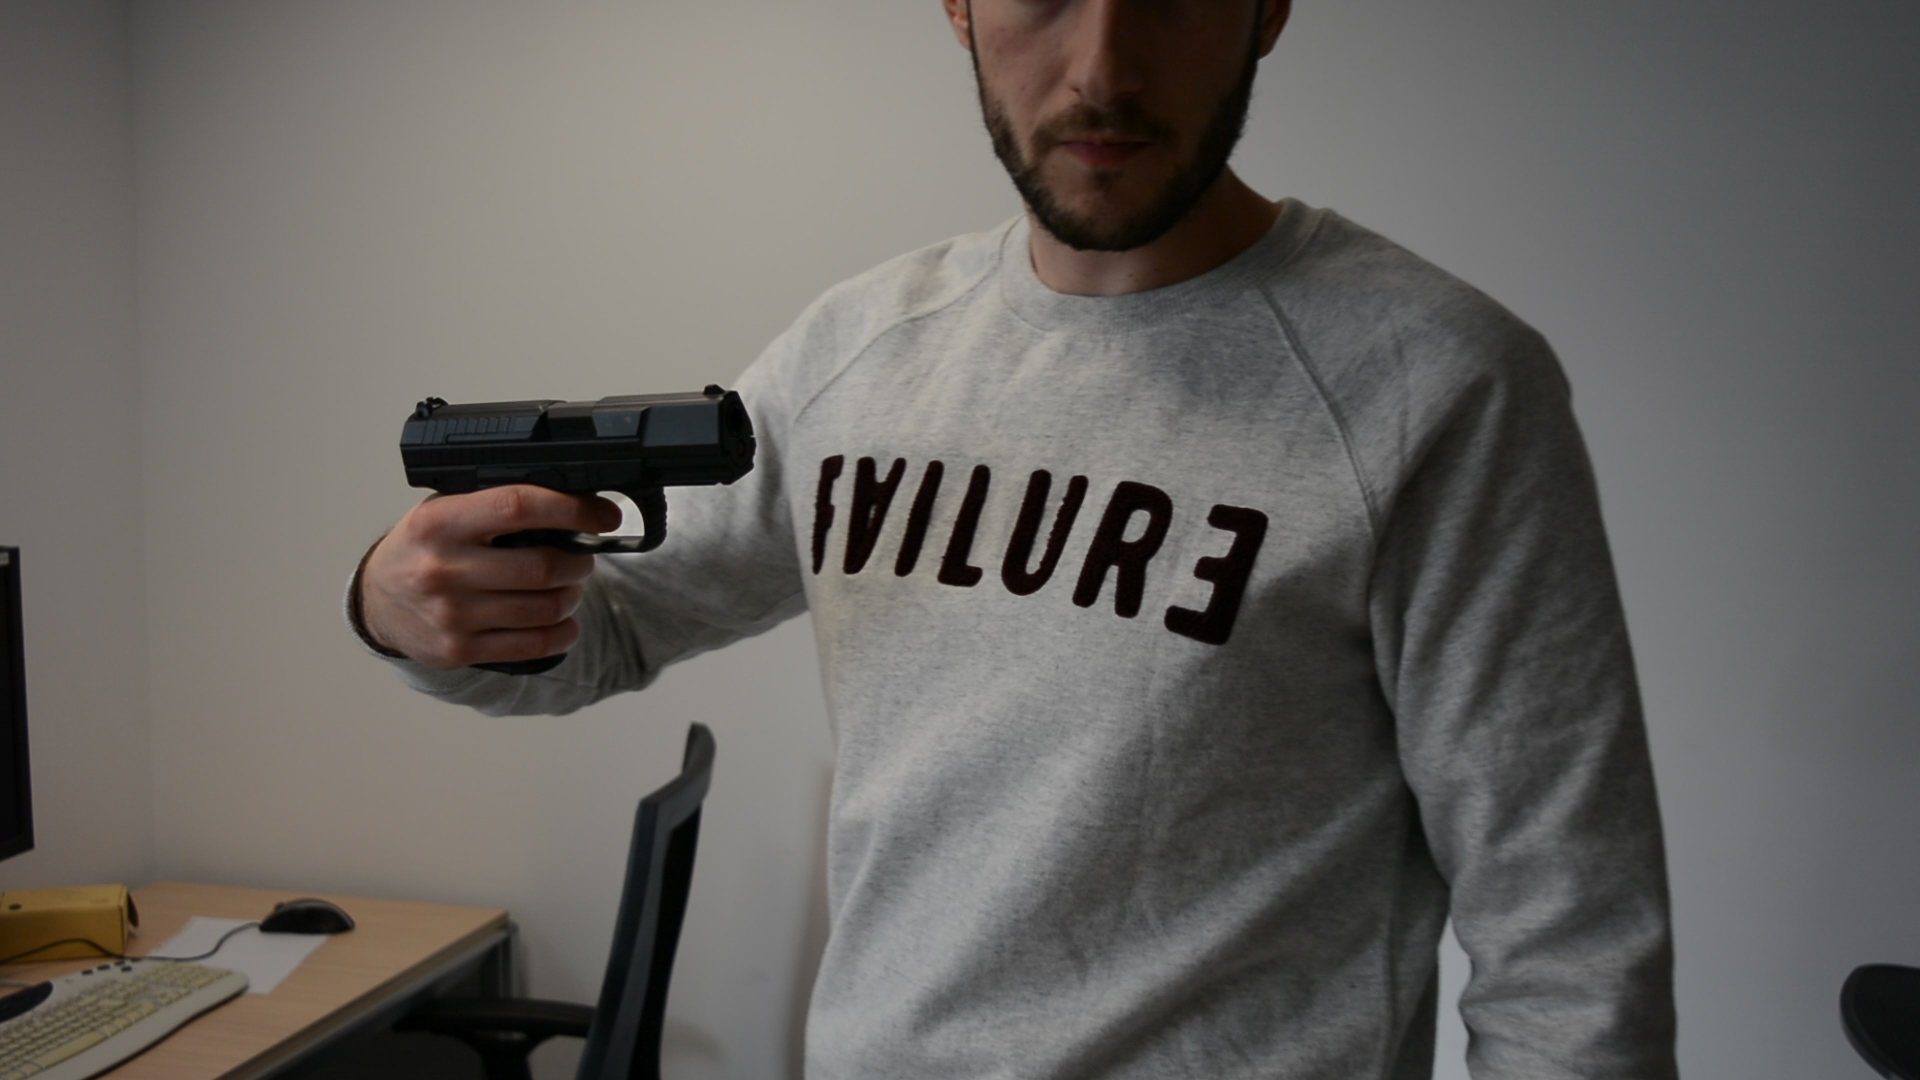pistol: (398, 382, 758, 679)
